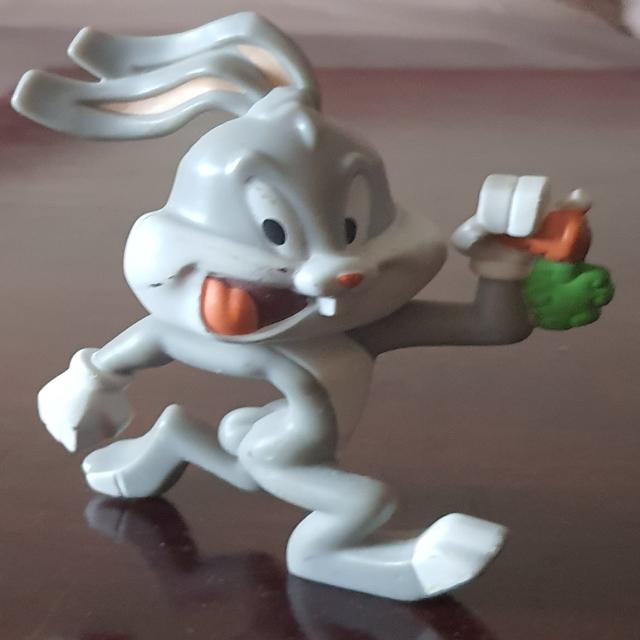Rabbit: (12, 10, 614, 602)
